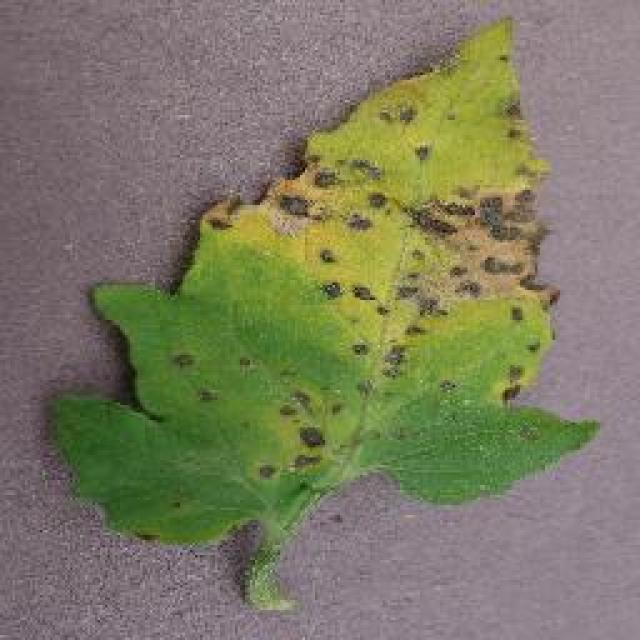Tomato___Septoria_leaf_spot: (52, 22, 592, 610)
